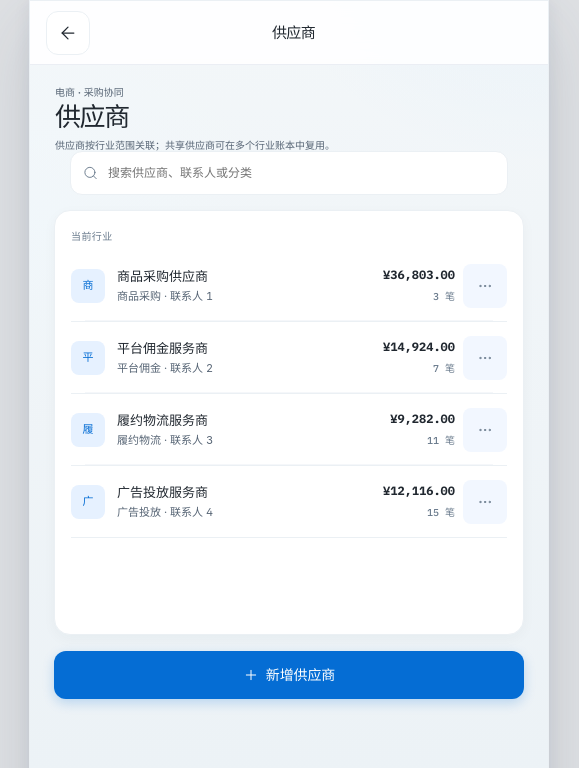
Scenario: C5 供应商行收敛：整行进入编辑，编辑/删除收进更多菜单 › 整行点击进入编辑表单（主进入点），键盘 Enter 同样生效
Expected: the heading "供应商" is shown, [55, 101, 129, 132]
Click the button with aria-label "编辑供应商 商品采购供应商" at point(88, 286), box [71, 250, 507, 322]
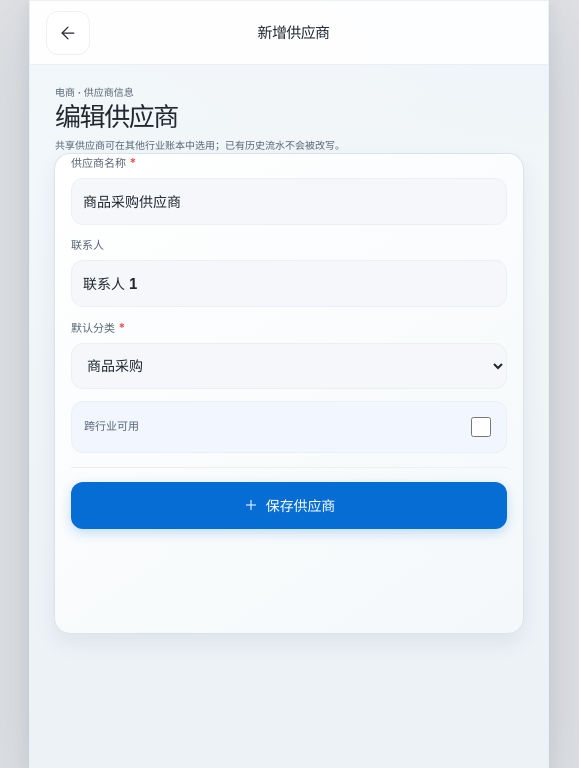
Expected: the heading "编辑供应商" is shown, [55, 101, 178, 132]
Expected: the field labelled "供应商名称" holds "商品采购供应商", [71, 178, 507, 225]
